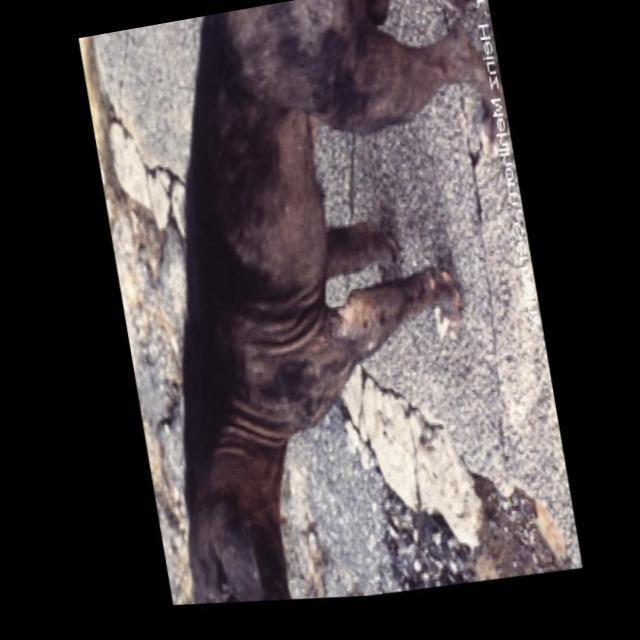mange: (220, 0, 408, 439)
